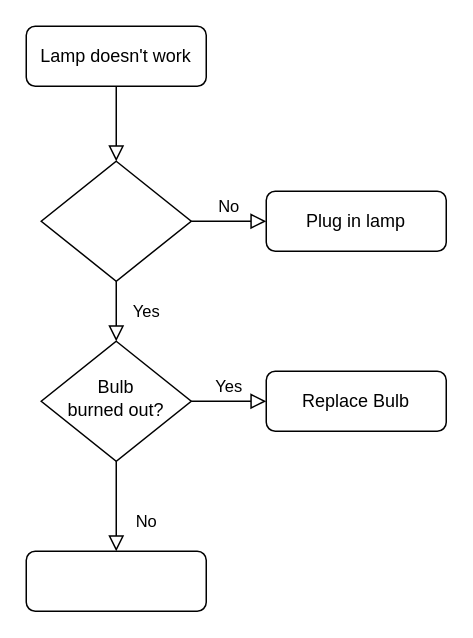
The diagram is 473 pixels wide and 638 high, and some of its shapes have lost their labels. The shapes that lost their labels are listed below. From the top down, each one's centre as x and y in pixels, then its label:
At point (115, 220): "Shiva".
At point (115, 580): "Repair Lamp".
